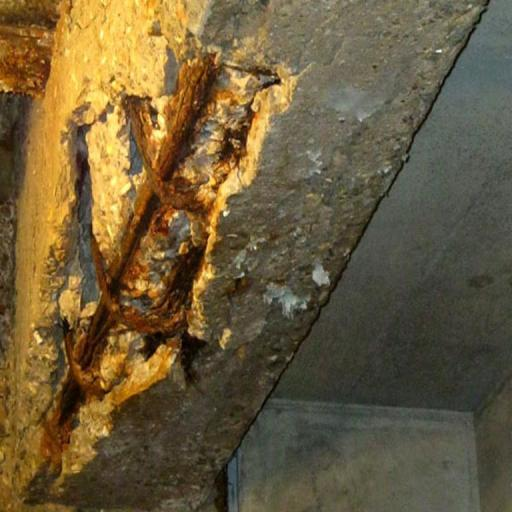spalling: (20, 47, 294, 499)
